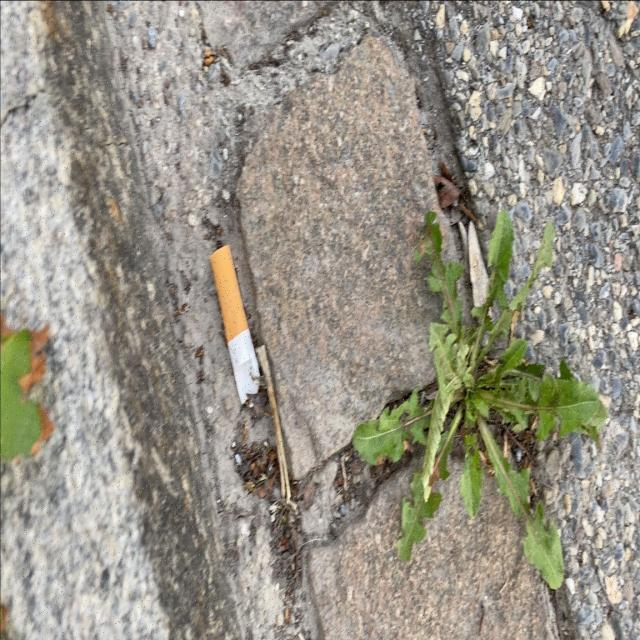other waste: (208, 241, 261, 410)
